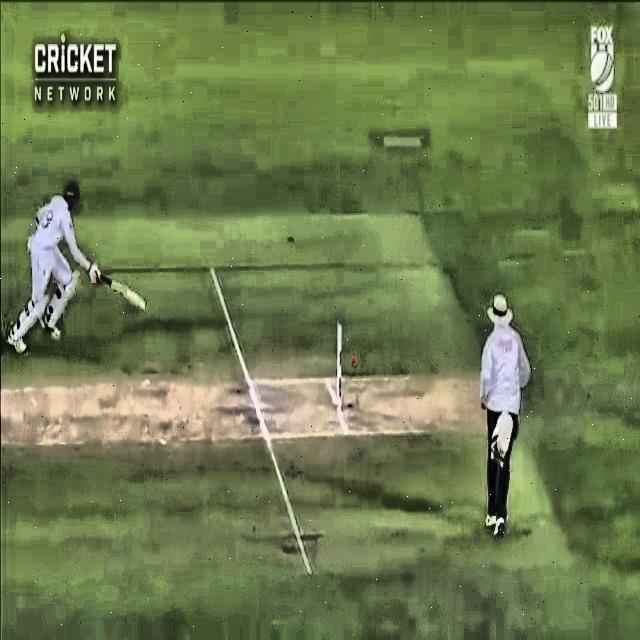Ball: (349, 348, 364, 370)
Bat: (80, 262, 149, 314)
Pitch_Line: (210, 266, 311, 575)
Undis_Wicket: (328, 313, 351, 417)
